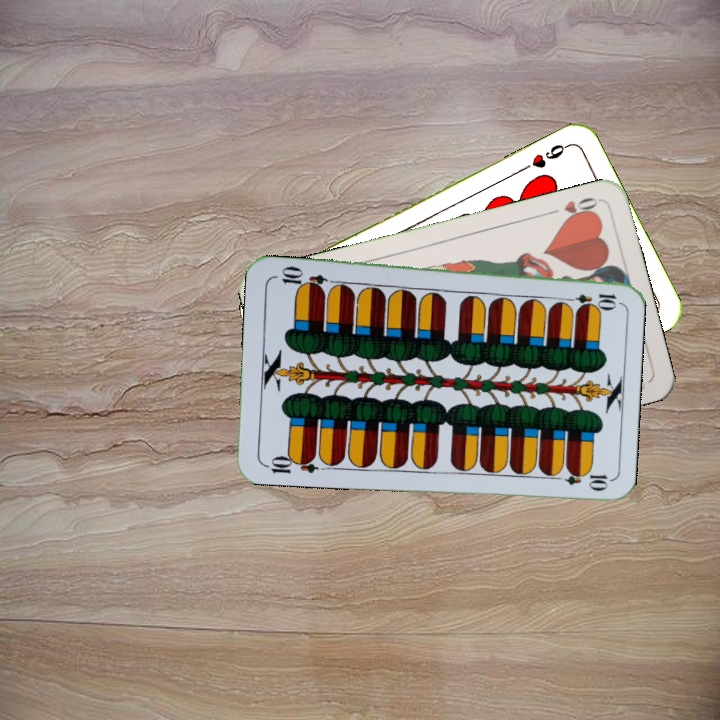E10: (261, 450, 320, 476), (560, 289, 619, 308)
H9: (518, 139, 573, 174)
HO: (543, 193, 602, 224)
